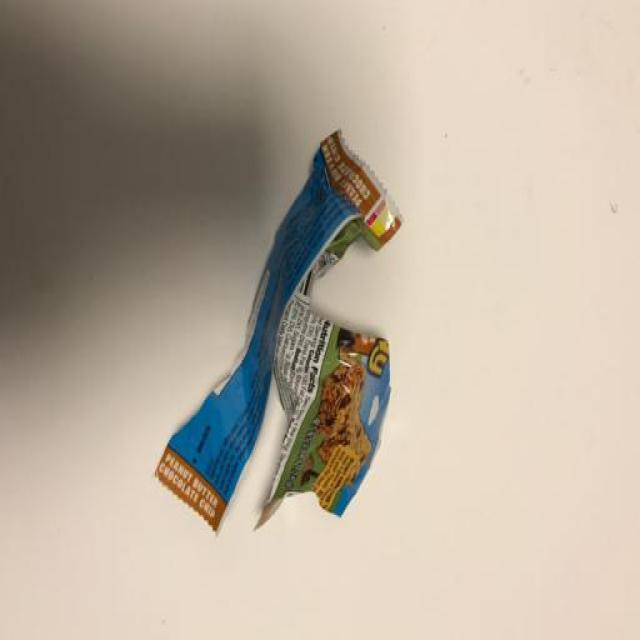Random Trash: (155, 128, 402, 535)
